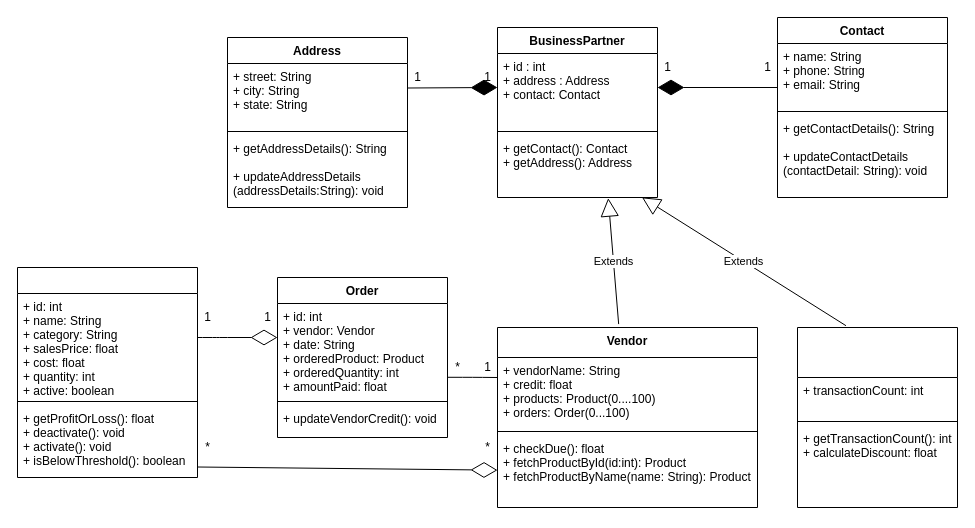
The diagram is 975 pixels wide and 528 high, and some of its shapes have lost their labels. The box of each missing label's shape, as (x1, y1, x2, y2) in pixels:
Customer: (796, 326, 958, 508)
Product: (16, 266, 198, 478)
